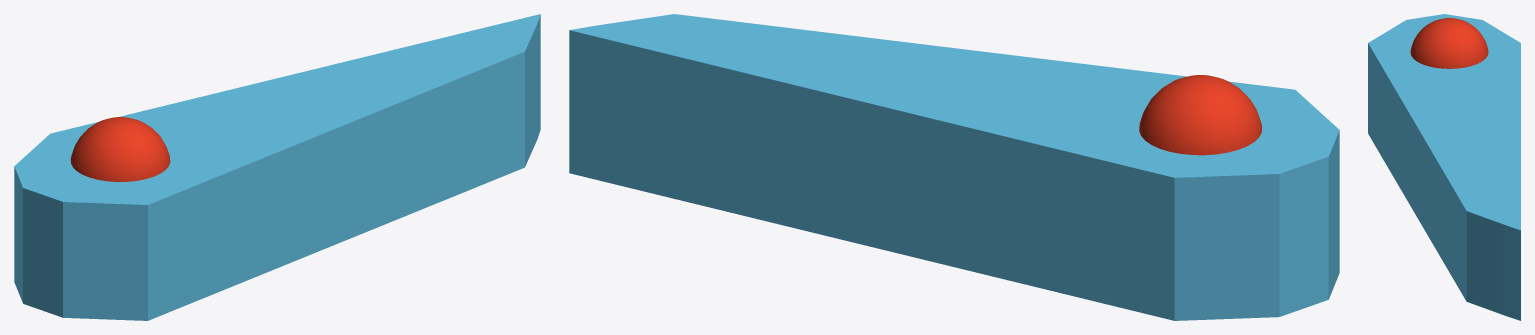
File: bumper_zx.fbx
3 renders of one model, left to right at view 1: azimuth 30°, elevation 25°; view 2: azimuth 150°, elevation 25°; view 3: azimuth 270°, elevation 25°, orthographic. The views are drawn at different scales.
Visible parts, largest first — view 1: Cube.001; view 2: Cube.001; view 3: Cube.001.
Boxes of the visible parts, x1=… form: Cube.001: x1=14, y1=14, x2=540, y2=320; Cube.001: x1=569, y1=14, x2=1339, y2=320; Cube.001: x1=1368, y1=14, x2=1520, y2=320.
Bounding box in the file's own units: 60.8 × 15.92 × 18.15.
